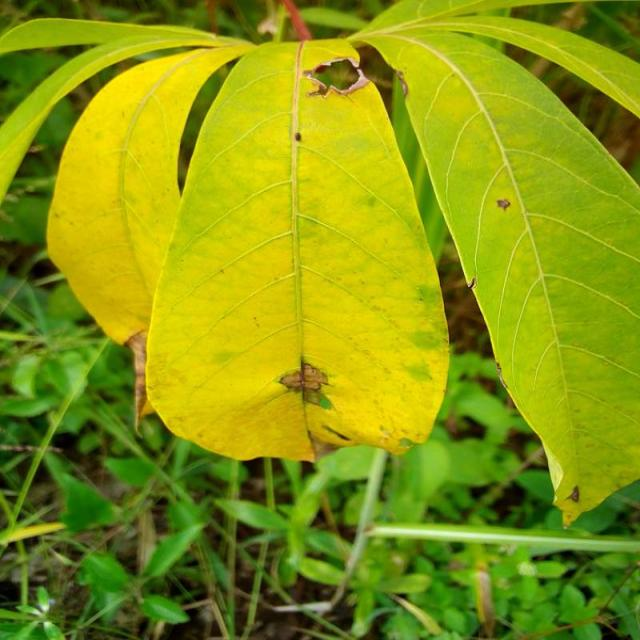cassava leaf: (348, 11, 640, 527), (143, 36, 451, 463), (46, 41, 258, 347)
